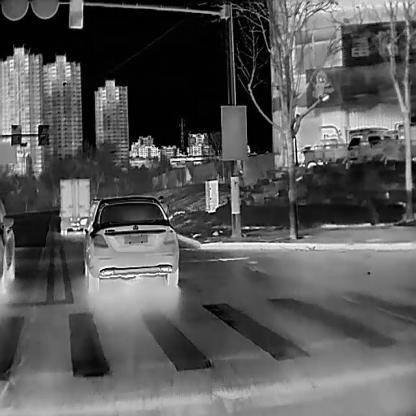car: (78, 194, 179, 290), (57, 175, 91, 235), (0, 198, 14, 284)
